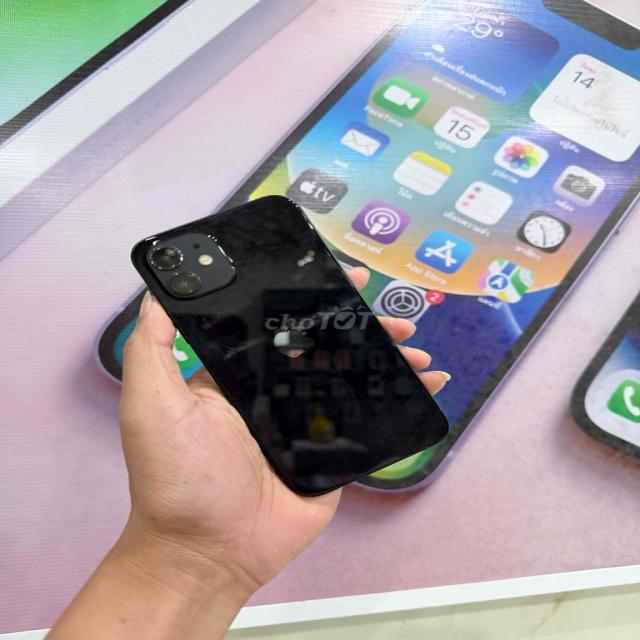gen_12_13: (123, 194, 452, 496)
